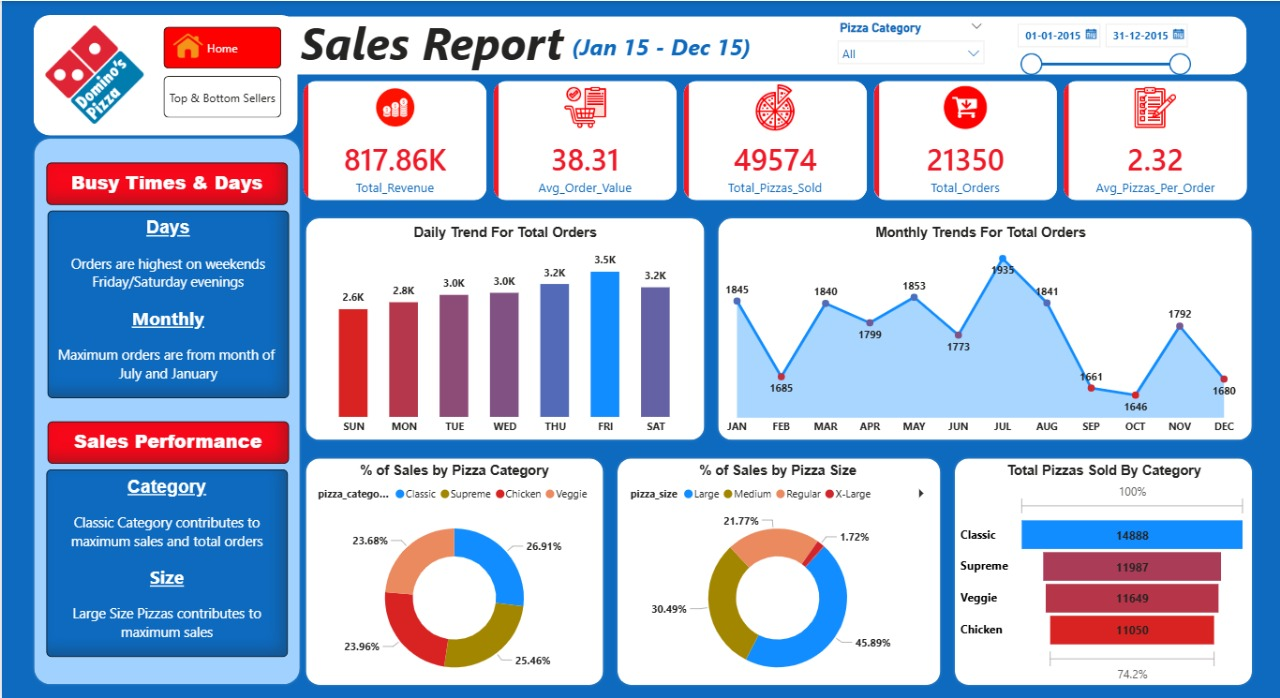

This screenshot's page, from the dashboard's own definition file:
{"tool":"powerbi","page":{"name":"Home","canvas":[1500,820],"ordinal":0},"visuals":[{"type":"cardVisual","fields":{"Data":["public pizza.Total_Revenue","public pizza.Avg_Order_Value","public pizza.Total_Pizzas_Sold","public pizza.Total_Orders","public pizza.Avg_Pizzas_Per_Order"]},"box":[337.1,77.1,1145.7,174.3],"z":0},{"type":"shape","box":[37.1,17.1,310,141.4],"z":1000},{"type":"shape","box":[134.7,18.1,1325.7,68.6],"z":2000},{"type":"image","box":[49.5,28.9,118.2,115.4],"z":3000},{"type":"textbox","box":[321.5,6.9,365.5,93.4],"z":4000},{"type":"textbox","box":[526.2,30.2,494.6,92.1],"z":5000},{"type":"shape","box":[352.9,251.4,474.3,267.1],"z":6000},{"type":"columnChart","title":"Daily Trend For Total Orders","fields":{"Category":["public pizza.ORDER DAY NAME"],"Y":["public pizza.Total_Orders"]},"box":[367.1,262.9,447.1,255.7],"z":7000},{"type":"shape","box":[837.1,251.4,632.9,267.1],"z":8000},{"type":"areaChart","title":"Monthly Trends For Total Orders","fields":{"Y":["public pizza.Total_Orders"],"Category":["public pizza.ORDER MONTH NAME"]},"box":[837.1,262.9,622.9,255.7],"z":9000},{"type":"shape","box":[352.9,532.9,355.7,272.9],"z":10000},{"type":"shape","box":[718.6,532.9,385.7,272.9],"z":11000},{"type":"shape","box":[1114.3,532.9,355.7,272.9],"z":12000},{"type":"donutChart","title":"% of Sales by Pizza Category","fields":{"Category":["public pizza.pizza_category"],"Y":["public pizza.Total_Revenue"]},"box":[352.9,541.4,355.7,272.9],"z":13000},{"type":"donutChart","title":"% of Sales by Pizza Size","fields":{"Y":["public pizza.Total_Revenue"],"Category":["public pizza.pizza_size"]},"box":[732.9,541.4,355.7,272.9],"z":14000},{"type":"funnel","title":"Total Pizzas Sold By Category","fields":{"Category":["public pizza.pizza_category"],"Y":["public pizza.Total_Pizzas_Sold"]},"box":[1120,541.4,345.7,264.3],"z":15000},{"type":"shape","box":[34.3,158.6,318.6,647.1],"z":16000},{"type":"textbox","box":[52.2,189.6,283,49.5],"z":17000},{"type":"textbox","box":[53.6,245.9,283,219.8],"z":18000},{"type":"textbox","box":[53.6,493.3,283,49.5],"z":19000},{"type":"textbox","box":[52.2,549.6,283,219.8],"z":20000},{"type":"slicer","fields":{"Values":["public pizza.pizza_category"]},"box":[970,17.9,192.4,68.7],"z":21000},{"type":"slicer","fields":{"Values":["public pizza.order_date"]},"box":[1178.9,16.5,224,71.4],"z":22000},{"type":"pageNavigator","box":[189.6,30.2,138.8,49.5],"z":22001},{"type":"pageNavigator","box":[189.6,87.9,138.8,49.5],"z":22002},{"type":"image","box":[199.2,27.5,38.5,46.7],"z":22003}]}

Visuals, with their boxes in screenshot pixels (x1, y1, x2, y2), scaled from the page's 1500x820 canvas onto the 1280x698 screenshot:
cardVisual - public pizza.Total_Revenue x public pizza.Avg_Order_Value: bbox=[288, 66, 1265, 214]
shape: bbox=[32, 15, 296, 135]
shape: bbox=[115, 15, 1246, 74]
image: bbox=[42, 25, 143, 123]
textbox: bbox=[274, 6, 586, 85]
textbox: bbox=[449, 26, 871, 104]
shape: bbox=[301, 214, 706, 441]
"Daily Trend For Total Orders" columnChart: bbox=[313, 224, 695, 441]
shape: bbox=[714, 214, 1254, 441]
"Monthly Trends For Total Orders" areaChart: bbox=[714, 224, 1246, 441]
shape: bbox=[301, 454, 605, 686]
shape: bbox=[613, 454, 942, 686]
shape: bbox=[951, 454, 1254, 686]
"% of Sales by Pizza Category" donutChart: bbox=[301, 461, 605, 693]
"% of Sales by Pizza Size" donutChart: bbox=[625, 461, 929, 693]
"Total Pizzas Sold By Category" funnel: bbox=[956, 461, 1251, 686]
shape: bbox=[29, 135, 301, 686]
textbox: bbox=[45, 161, 286, 204]
textbox: bbox=[46, 209, 287, 396]
textbox: bbox=[46, 420, 287, 462]
textbox: bbox=[45, 468, 286, 655]
slicer - public pizza.pizza_category: bbox=[828, 15, 992, 74]
slicer - public pizza.order_date: bbox=[1006, 14, 1197, 75]
pageNavigator: bbox=[162, 26, 280, 68]
pageNavigator: bbox=[162, 75, 280, 117]
image: bbox=[170, 23, 203, 63]
